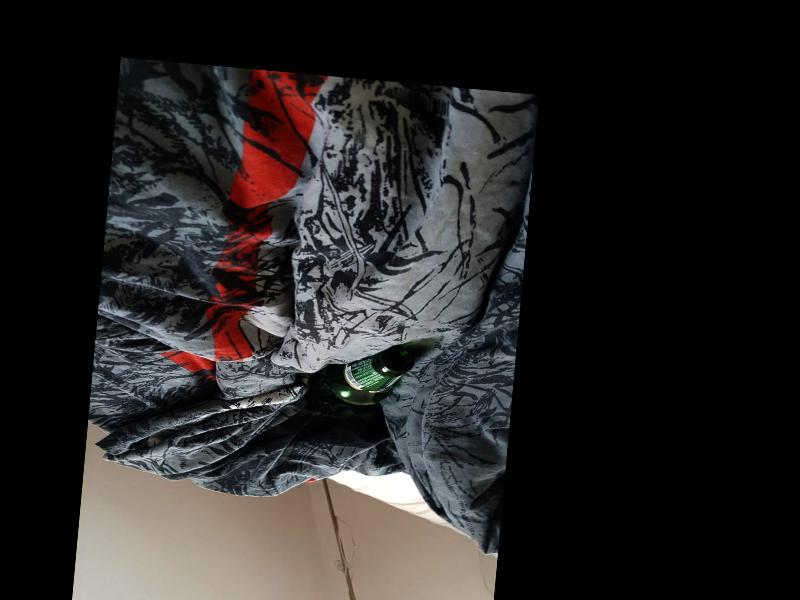Beer: (302, 337, 416, 418)
